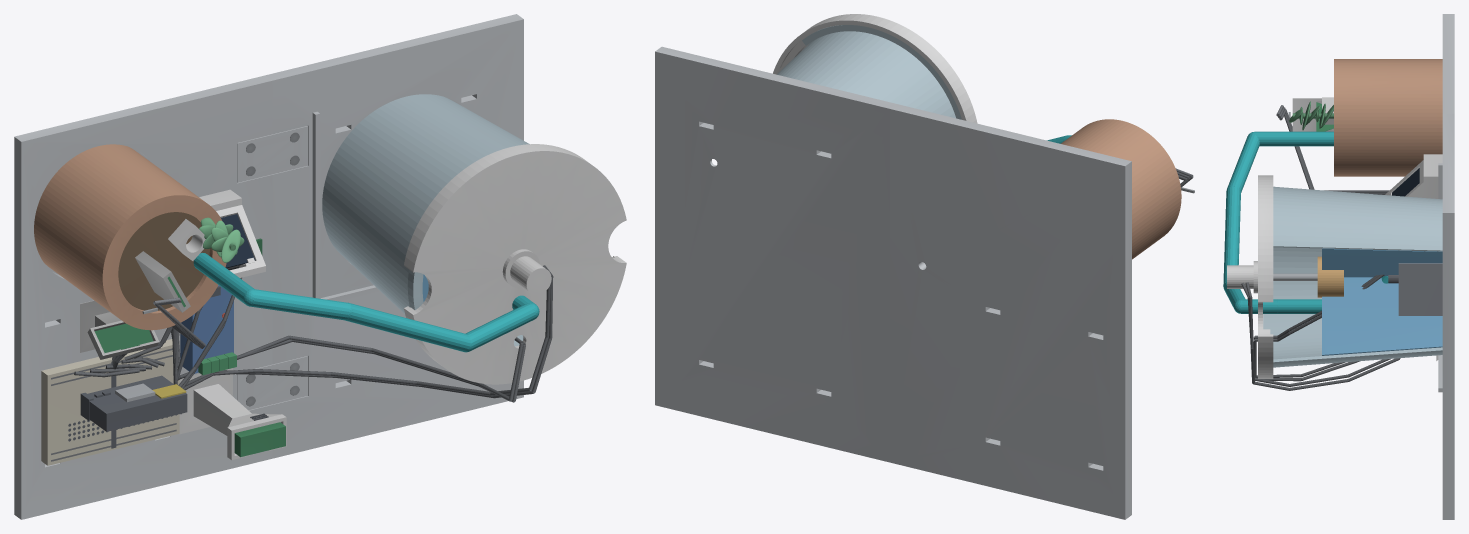
Rendered from 花房整机示意模型.glb.
3 views of the same model, side by side, from view 1: azimuth 30°, elevation 25°; view 2: azimuth 150°, elevation 25°; view 3: azimuth 270°, elevation 25° (orthographic). The views are drawn at different scales.
Visible parts, largest first — view 1: 01_底盘右片, 00_底盘左片, 16_水箱盖, 14_水箱, 04_花盆, 31_面包板, 23_水管, 05_土壤, 34_DHT11 座, 32_ESP32, 02_连接块, 33_继电器 (+13 smaller); view 2: 00_底盘左片, 01_底盘右片, 14_水箱, 04_花盆, 16_水箱盖; view 3: 14_水箱, 04_花盆, 15_水体, 01_底盘右片, 23_水管, 16_水箱盖, 21_水泵, 00_底盘左片, 27_OLED 45°支架, 91_跳线25, 20_浮子, 77_跳线11 (+7 smaller).
Boxes of the visible parts, x1=… form: 01_底盘右片: x1=266, y1=14, x2=523, y2=458; 00_底盘左片: x1=14, y1=75, x2=272, y2=519; 16_水箱盖: x1=404, y1=144, x2=626, y2=384; 14_水箱: x1=322, y1=94, x2=529, y2=346; 04_花盆: x1=34, y1=144, x2=226, y2=330; 31_面包板: x1=41, y1=339, x2=179, y2=465; 23_水管: x1=193, y1=253, x2=539, y2=352; 05_土壤: x1=118, y1=212, x2=209, y2=310; 34_DHT11 座: x1=179, y1=368, x2=286, y2=459; 32_ESP32: x1=87, y1=375, x2=187, y2=431; 02_连接块: x1=237, y1=126, x2=307, y2=182; 33_继电器: x1=180, y1=285, x2=233, y2=373; 00_底盘左片: x1=890, y1=104, x2=1131, y2=519; 01_底盘右片: x1=655, y1=46, x2=896, y2=462; 14_水箱: x1=777, y1=25, x2=961, y2=119; 04_花盆: x1=1061, y1=119, x2=1181, y2=259; 16_水箱盖: x1=773, y1=14, x2=977, y2=123; 14_水箱: x1=1263, y1=186, x2=1442, y2=367; 04_花盆: x1=1334, y1=59, x2=1442, y2=176; 15_水体: x1=1322, y1=248, x2=1442, y2=355; 01_底盘右片: x1=1438, y1=113, x2=1454, y2=519; 23_水管: x1=1223, y1=131, x2=1388, y2=313; 16_水箱盖: x1=1258, y1=175, x2=1273, y2=378; 21_水泵: x1=1398, y1=263, x2=1442, y2=315; 00_底盘左片: x1=1442, y1=14, x2=1454, y2=113; 27_OLED 45°支架: x1=1385, y1=154, x2=1442, y2=198; 91_跳线25: x1=1245, y1=282, x2=1400, y2=390; 20_浮子: x1=1317, y1=256, x2=1343, y2=297; 77_跳线11: x1=1253, y1=274, x2=1384, y2=381.
Size of the model in its own units: 320 by 230 by 157.
